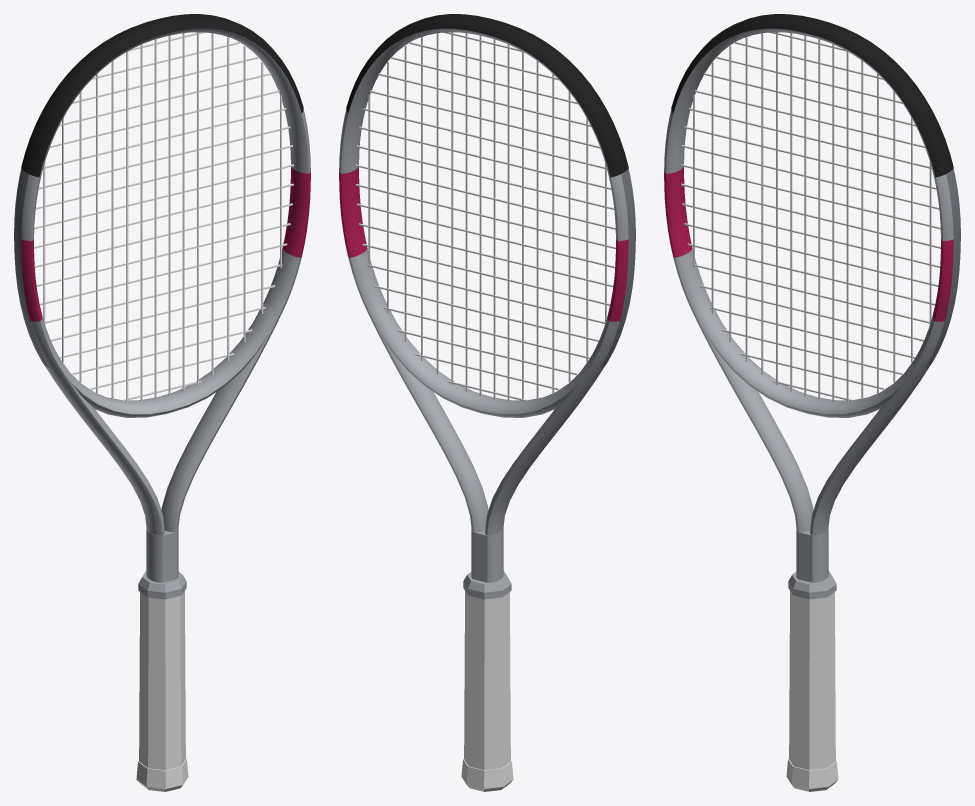
Rendered from babolat-boost-aero-2026--raspberry-pink.glb.
3 renders of one model, left to right at view 1: azimuth 30°, elevation 25°; view 2: azimuth 150°, elevation 25°; view 3: azimuth 330°, elevation 25°, orthographic.
Visible parts, largest first — view 1: frame, strings_mains, strings_crosses, grip, bumper, grommets, butt_cap, collar; view 2: frame, strings_mains, strings_crosses, grip, bumper, grommets, butt_cap, collar; view 3: frame, strings_mains, strings_crosses, grip, bumper, grommets, butt_cap, collar.
Boxes of the visible parts, x1,y1,x2,y2 form: frame: [14, 28, 310, 582]; strings_mains: [43, 32, 281, 402]; strings_crosses: [34, 32, 294, 401]; grip: [139, 591, 185, 770]; bumper: [21, 14, 303, 177]; grommets: [14, 169, 48, 367]; butt_cap: [136, 758, 188, 791]; collar: [138, 571, 186, 599]; frame: [339, 28, 635, 582]; strings_mains: [368, 32, 606, 401]; strings_crosses: [355, 32, 615, 401]; grip: [464, 591, 510, 770]; bumper: [346, 14, 628, 177]; grommets: [601, 169, 635, 367]; butt_cap: [461, 758, 513, 791]; collar: [463, 571, 511, 599]; frame: [664, 28, 960, 582]; strings_mains: [693, 32, 931, 402]; strings_crosses: [680, 32, 940, 401]; grip: [789, 591, 835, 770]; bumper: [671, 14, 953, 177]; grommets: [926, 169, 960, 367]; butt_cap: [786, 758, 838, 791]; collar: [788, 571, 836, 599].
Bounding box in the file's own units: 0.2742 × 0.6861 × 0.0396.
